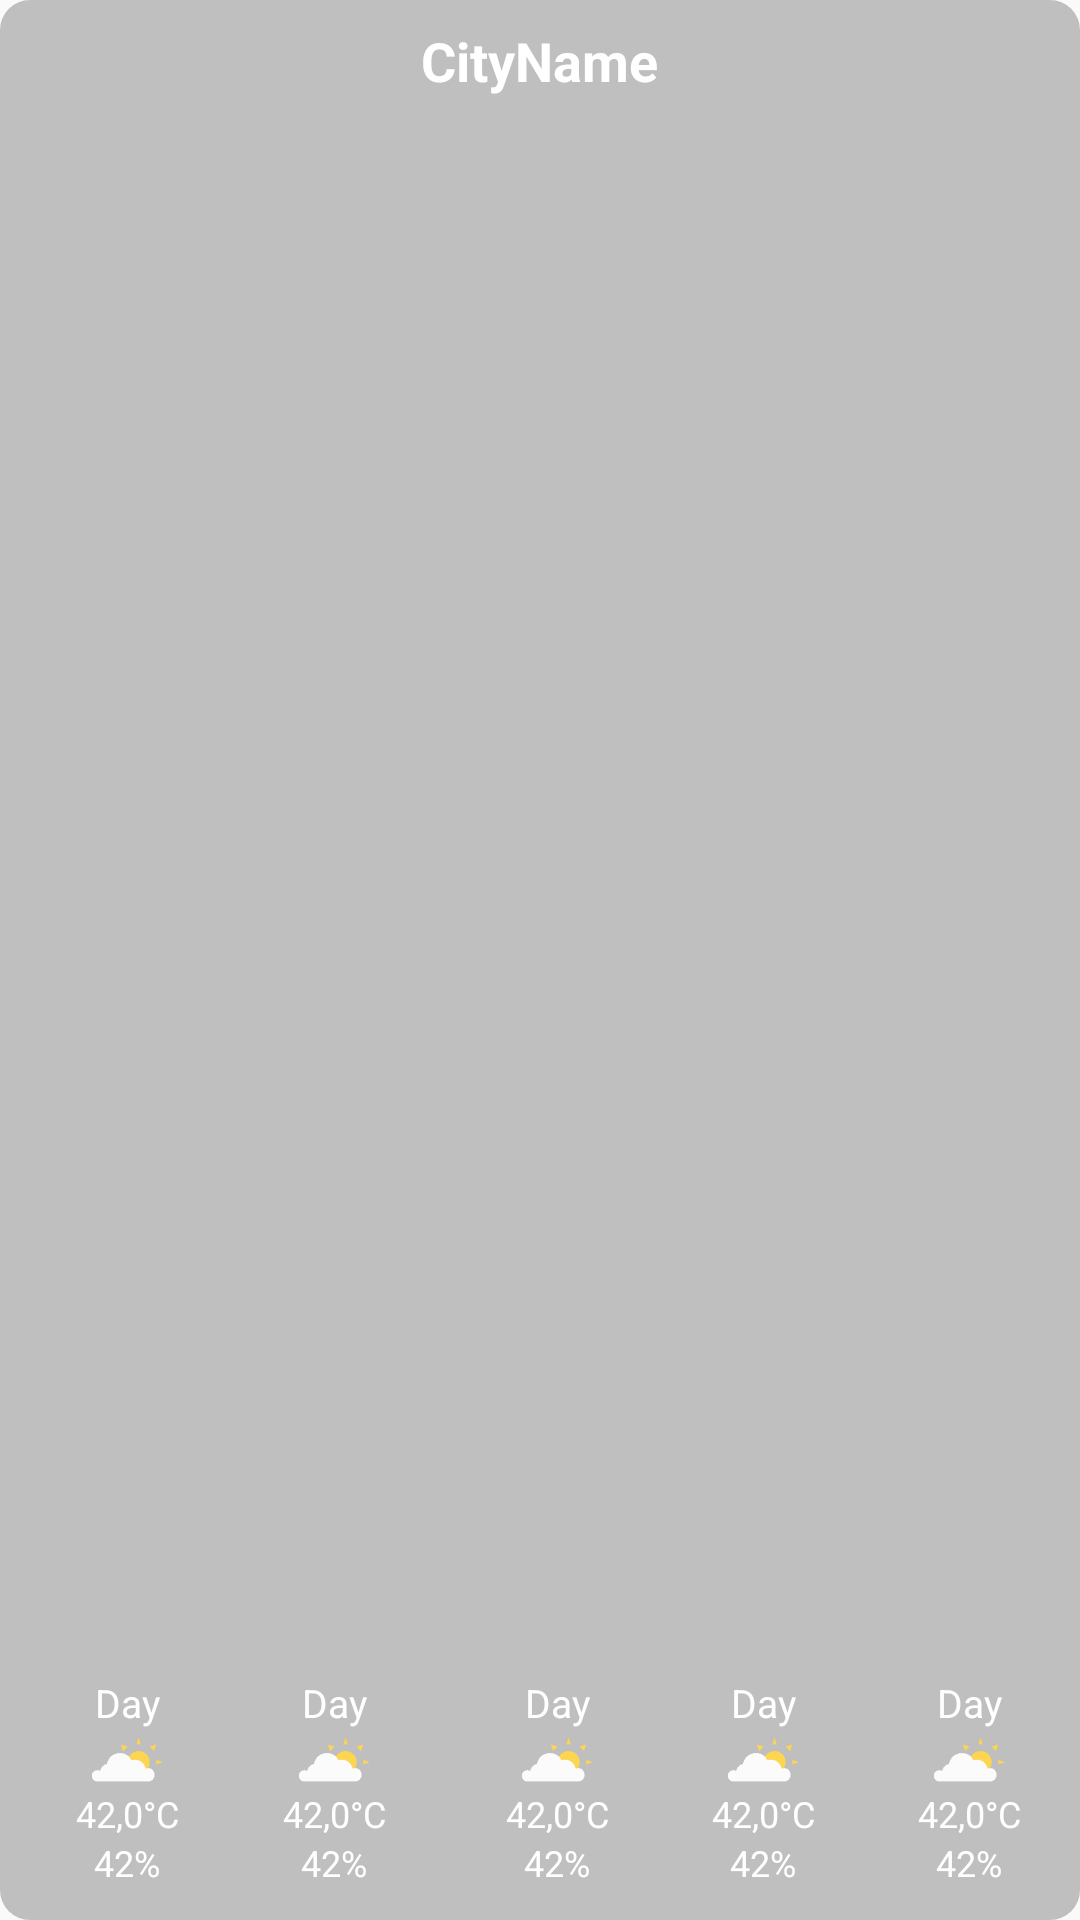

Where icons sit on this 1080 x 1920 app screen, as (x1, y1, x2, y2):
weather sunny with clouds: (92, 1738, 162, 1781), (299, 1738, 369, 1781), (522, 1738, 592, 1781), (728, 1738, 798, 1781), (934, 1738, 1004, 1781)
